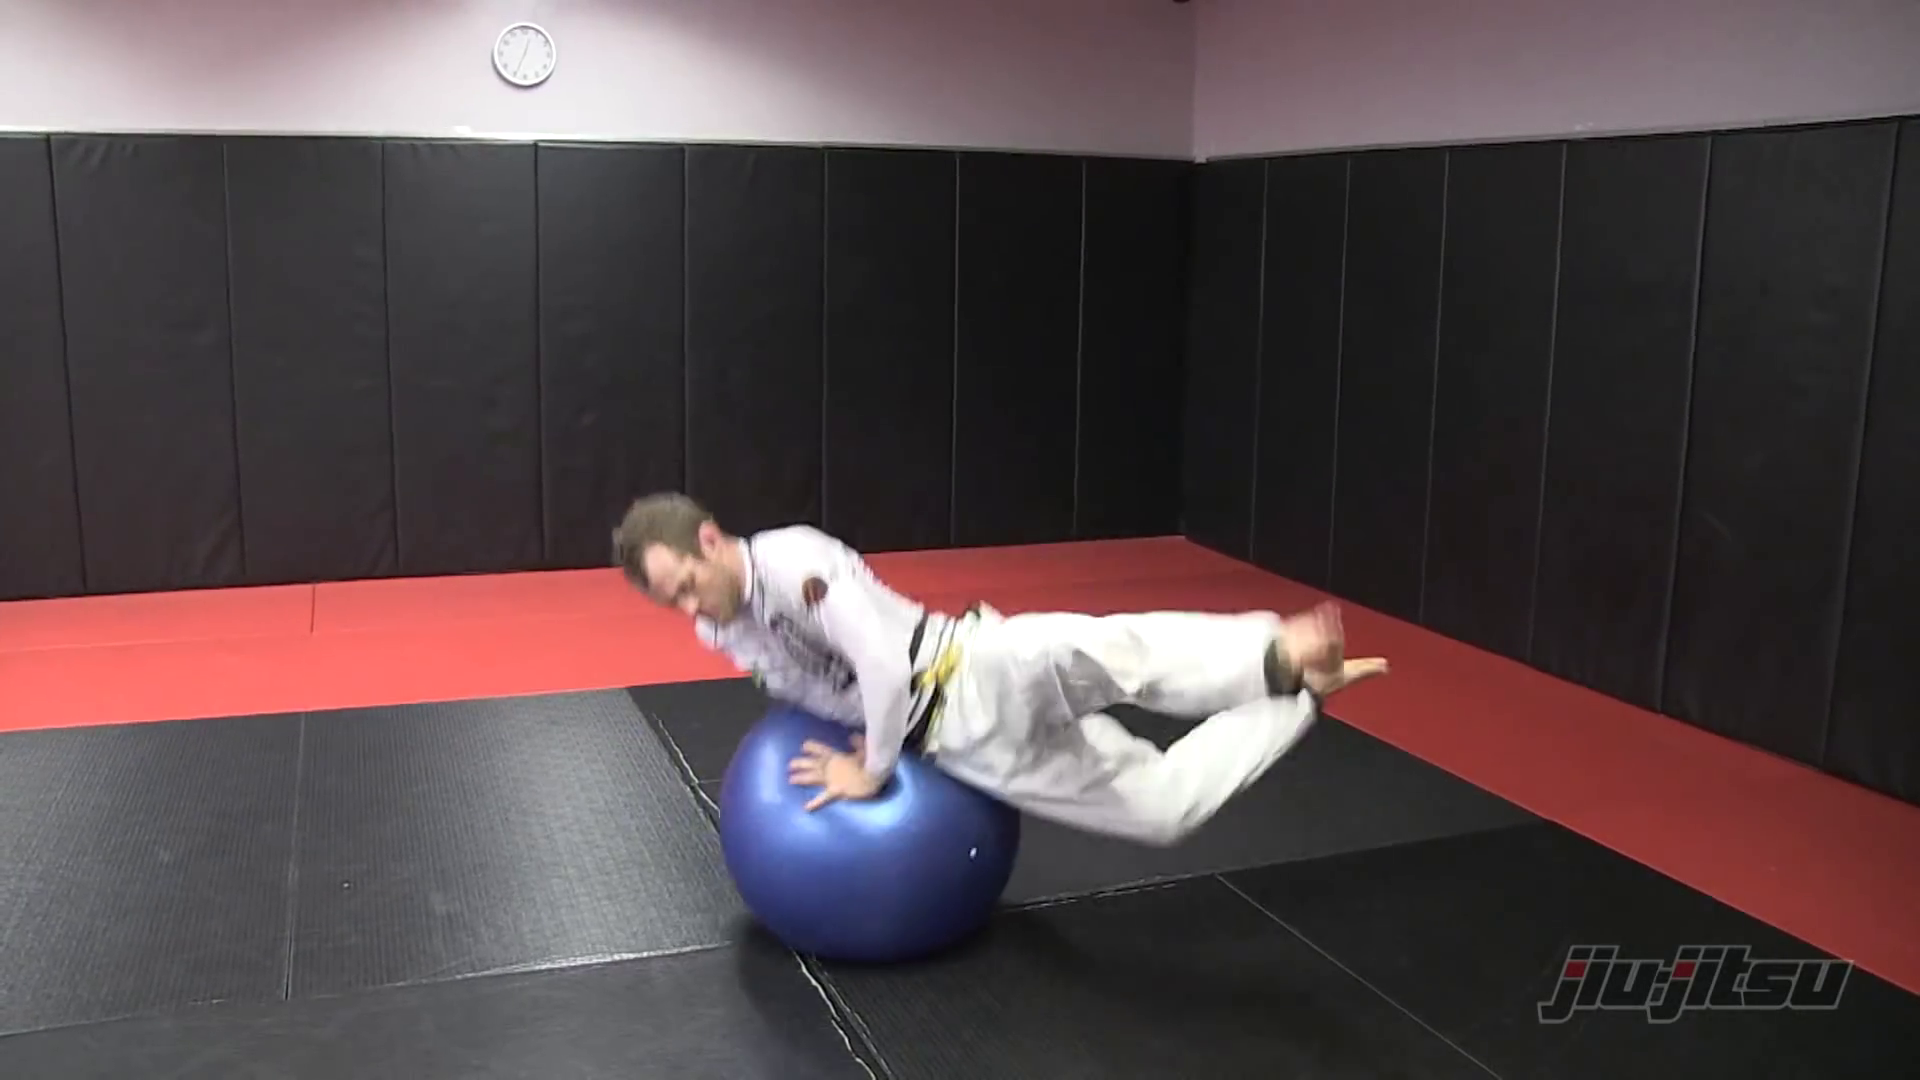yogaball: (688, 708, 1046, 981)
